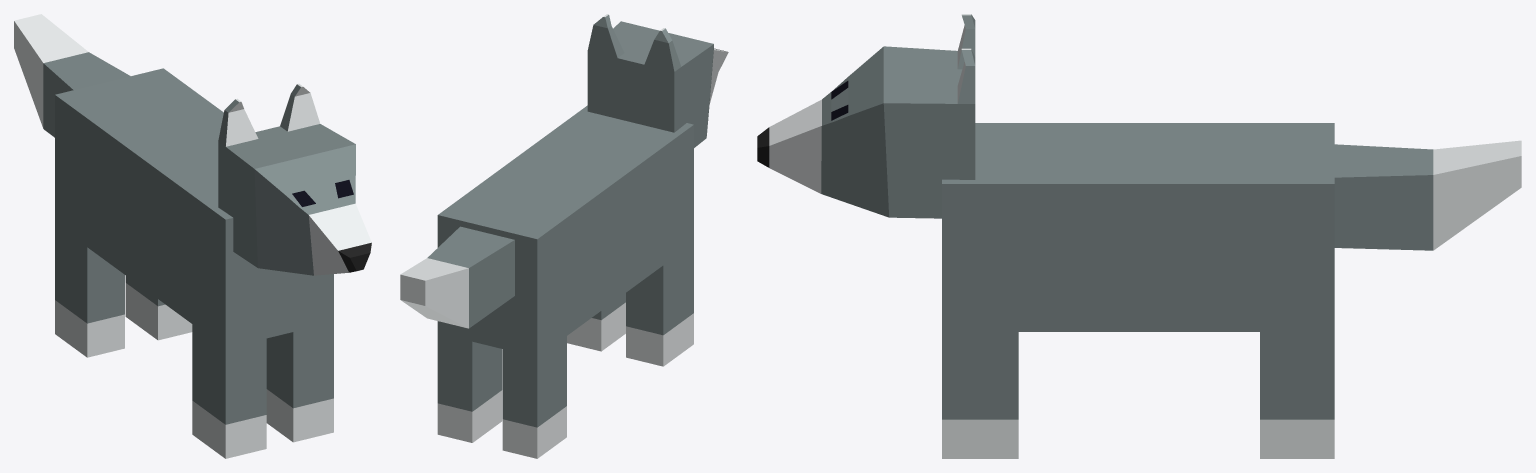
Rendered from wolf.fbx.
The picture shows the model from 3 angles, left to right: view 1: azimuth 30°, elevation 25°; view 2: azimuth 150°, elevation 25°; view 3: azimuth 270°, elevation 25°; orthographic projection. The views are drawn at different scales.
Parts seen in each view (by area): view 1: wolf; view 2: wolf; view 3: wolf.
Boxes of the visible parts, box(x1,y1,x2,y2) form: wolf: box(14, 14, 371, 458); wolf: box(400, 14, 728, 458); wolf: box(757, 14, 1521, 458).
Size of the model in its own units: 48.31 by 147 by 256.
